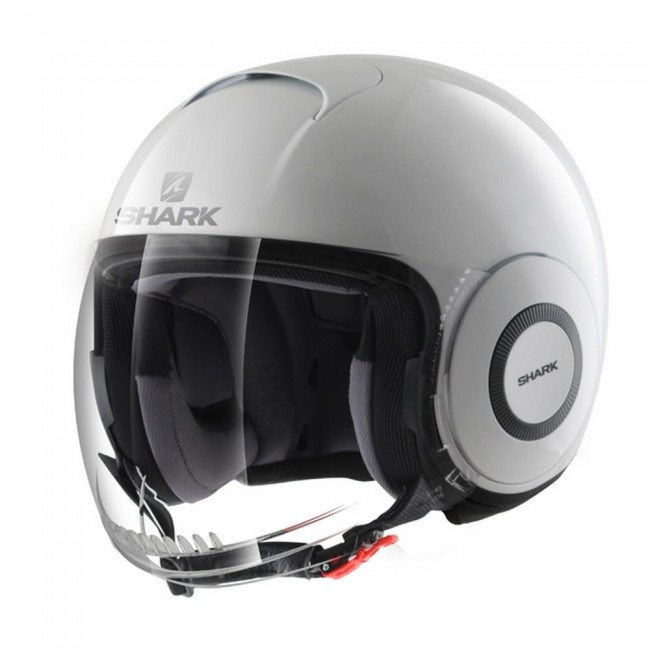with_helmet: (74, 55, 610, 570)
